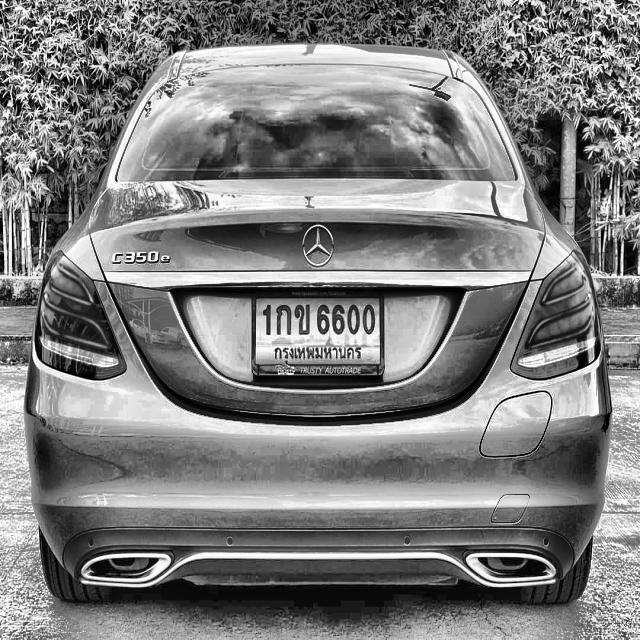license-plate: (250, 286, 385, 383)
